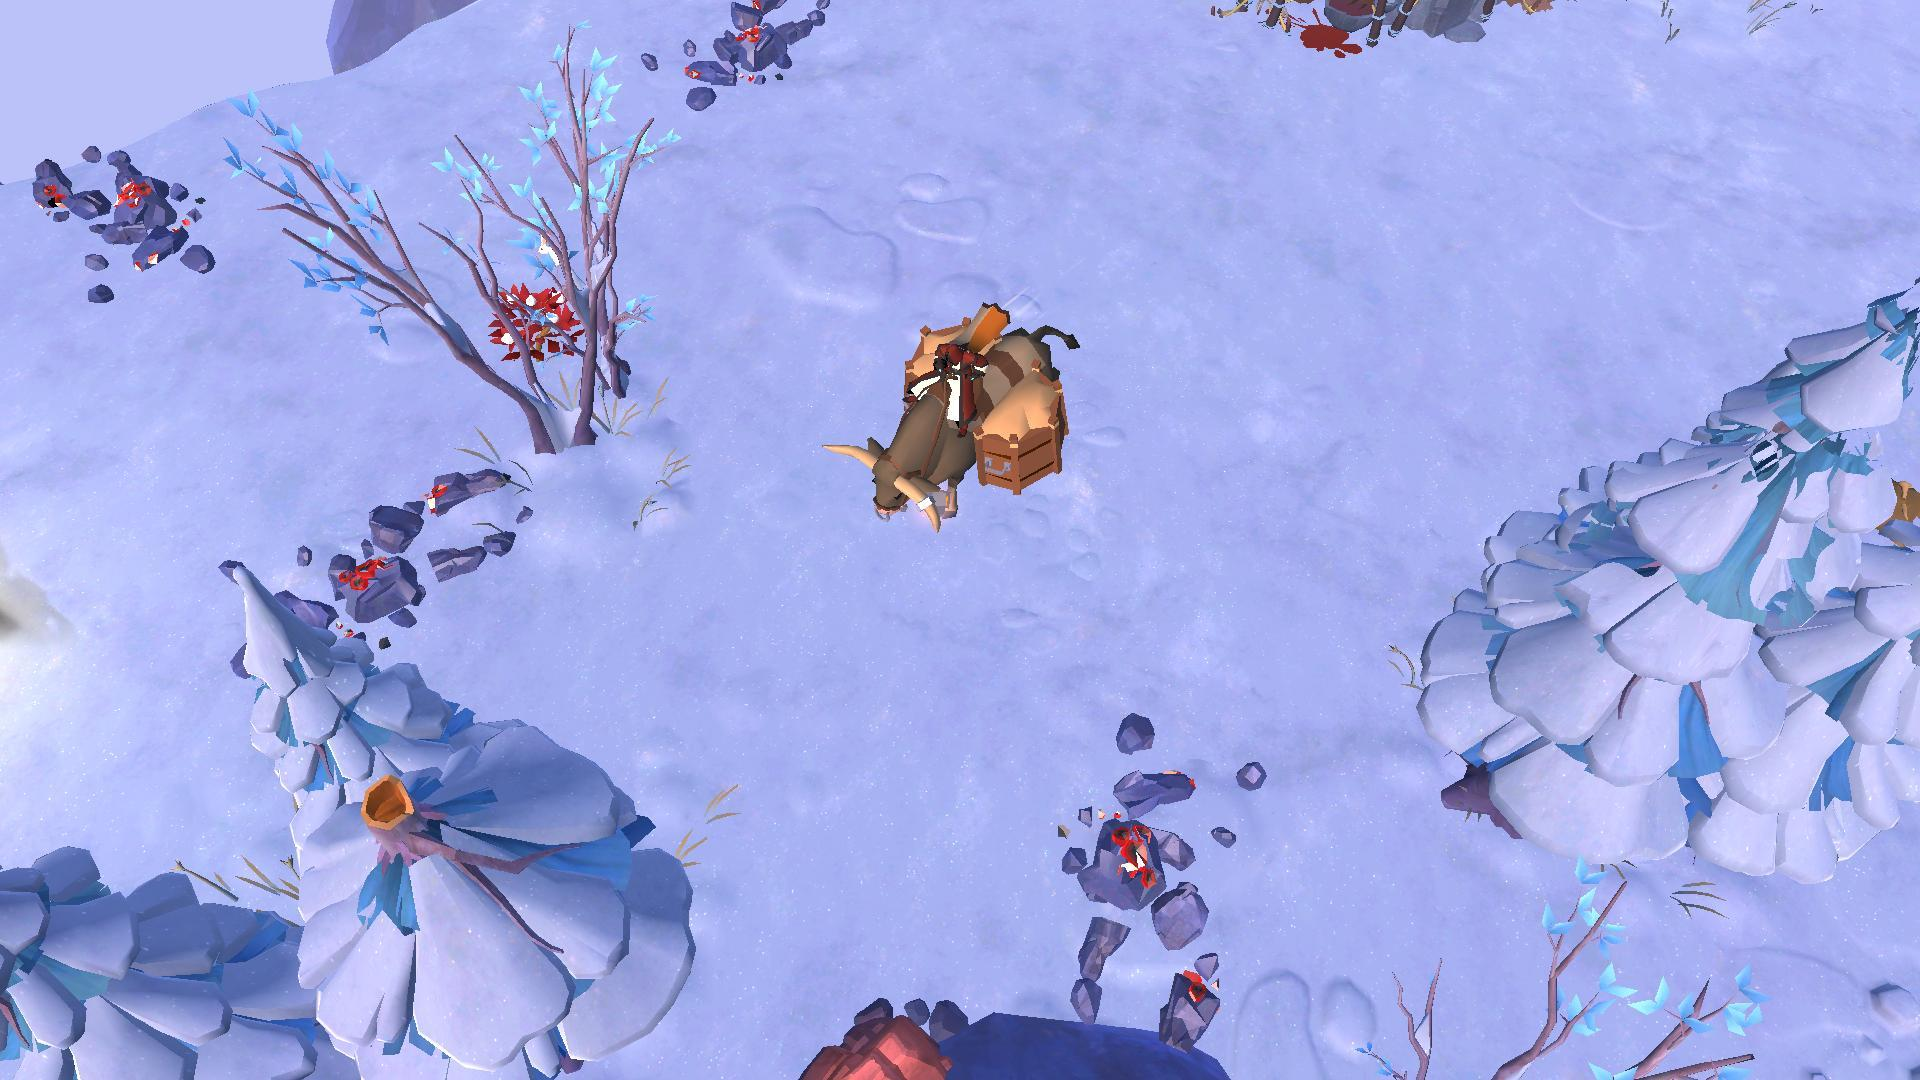fiber_t5: (484, 286, 588, 364)
